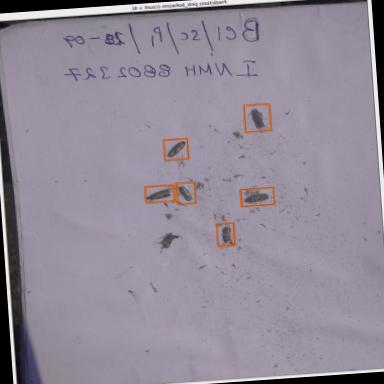pbw: (104, 363, 146, 384)
